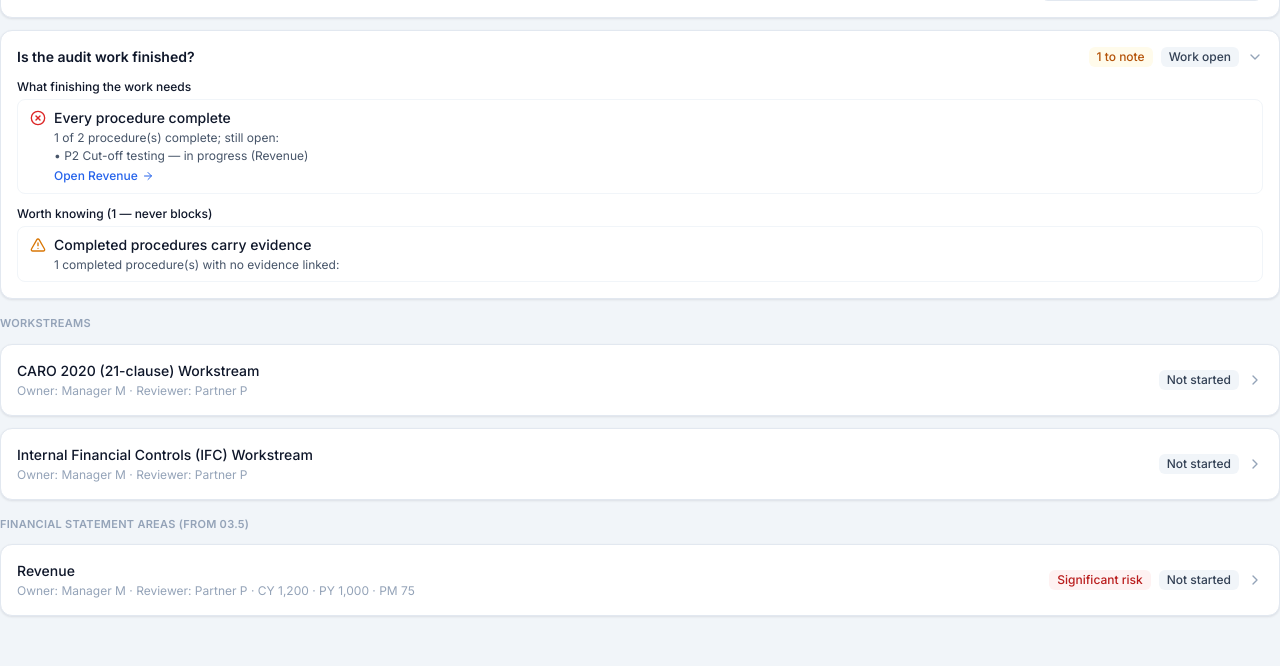
Scenario: audit work builds itself › says what finishing the work needs and goes straight to the area, its conclusion drafted
expect the text "What finishing the work needs" is shown: met, box x1=17 y1=79 x2=191 y2=94
expect the list item "• P2 Cut-off testing — in progress (Revenue)" is shown: met, box x1=54 y1=148 x2=308 y2=164
Step 1. Click the button "Open Revenue" → (104, 176), box x1=54 y1=168 x2=154 y2=184
(page scrolled)
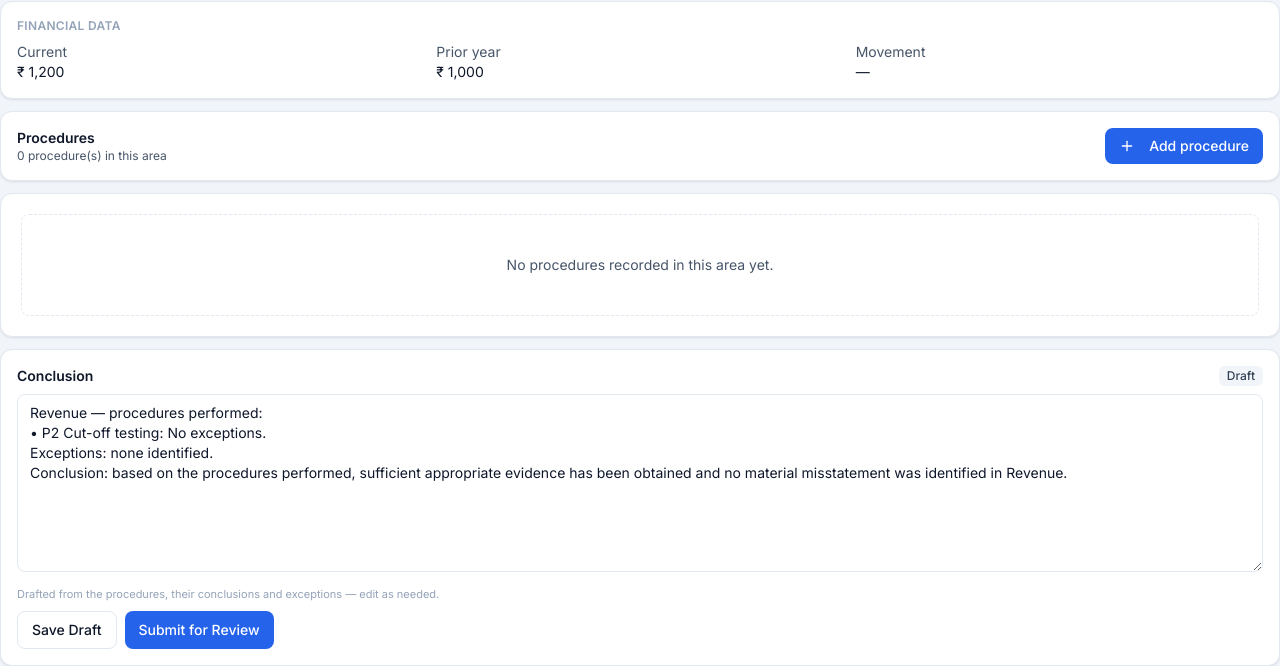
expect the text "Drafted from the procedures" is shown: met, box x1=17 y1=587 x2=439 y2=601
